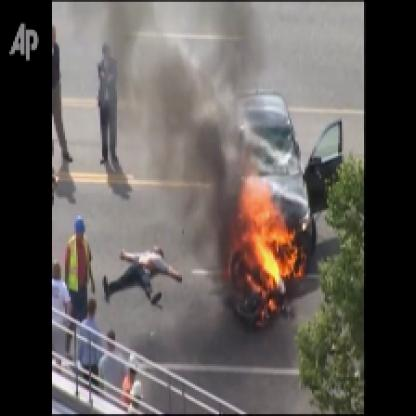Fire: (226, 145, 301, 319)
Smoke: (117, 2, 240, 241)
